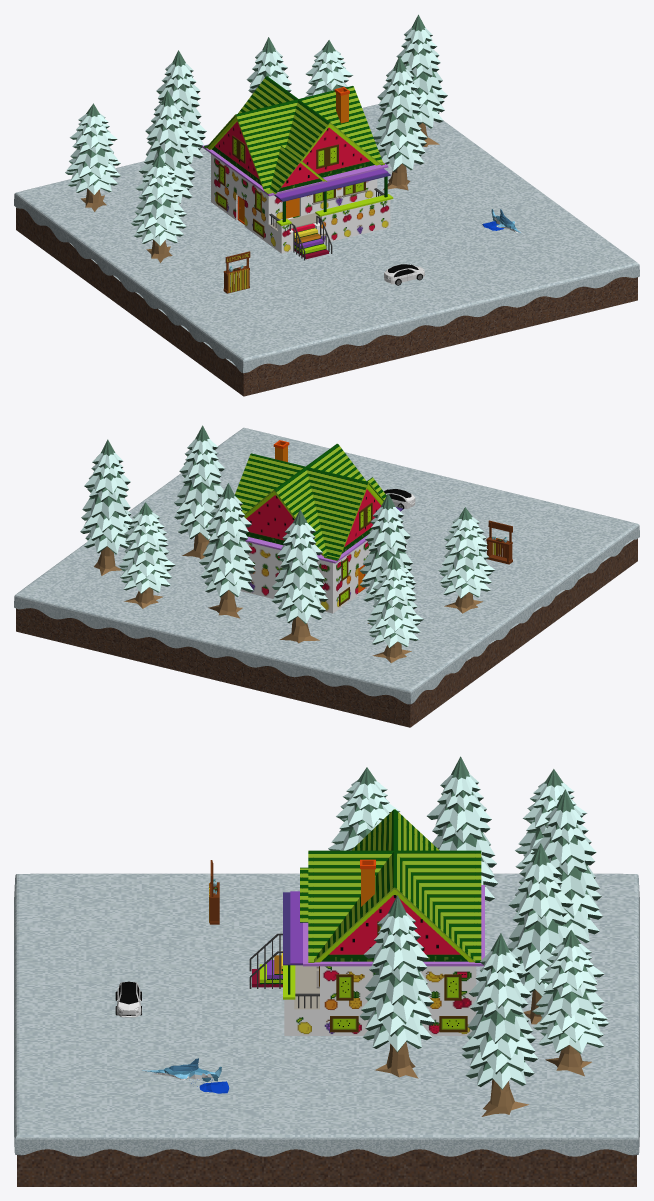
The picture shows the model from 3 angles, top to bottom: view 1: azimuth 30°, elevation 25°; view 2: azimuth 150°, elevation 25°; view 3: azimuth 270°, elevation 25°; orthographic projection. The views are drawn at different scales.
Parts seen in each view (by area): view 1: Cube.003, Cube.1063, OBJRANDOM_LEMONADE_STAND, VEHICLES_TESLA; view 2: Cube.003, Cube.1063, OBJRANDOM_LEMONADE_STAND, VEHICLES_TESLA; view 3: Cube.003, Cube.1063, ANIMAL_PEZ_ESPADA, VEHICLES_TESLA.
Boxes of the visible parts, <box> form: Cube.003: <box>14,14,639,396</box>; Cube.1063: <box>202,76,393,260</box>; OBJRANDOM_LEMONADE_STAND: <box>223,251,250,293</box>; VEHICLES_TESLA: <box>384,264,424,285</box>; Cube.003: <box>14,425,639,727</box>; Cube.1063: <box>235,440,405,613</box>; OBJRANDOM_LEMONADE_STAND: <box>486,520,512,564</box>; VEHICLES_TESLA: <box>383,489,415,508</box>; Cube.003: <box>14,756,639,1186</box>; Cube.1063: <box>249,809,484,1035</box>; ANIMAL_PEZ_ESPADA: <box>142,1058,229,1093</box>; VEHICLES_TESLA: <box>115,981,141,1017</box>.
Bounding box in the file's own units: 4040 × 1793 × 4040.
34 materials, 5 textured.
